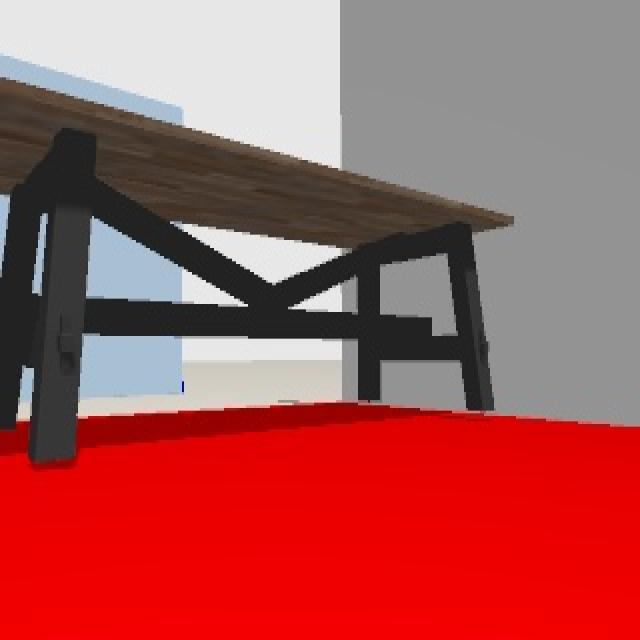dining: (0, 74, 513, 413)
